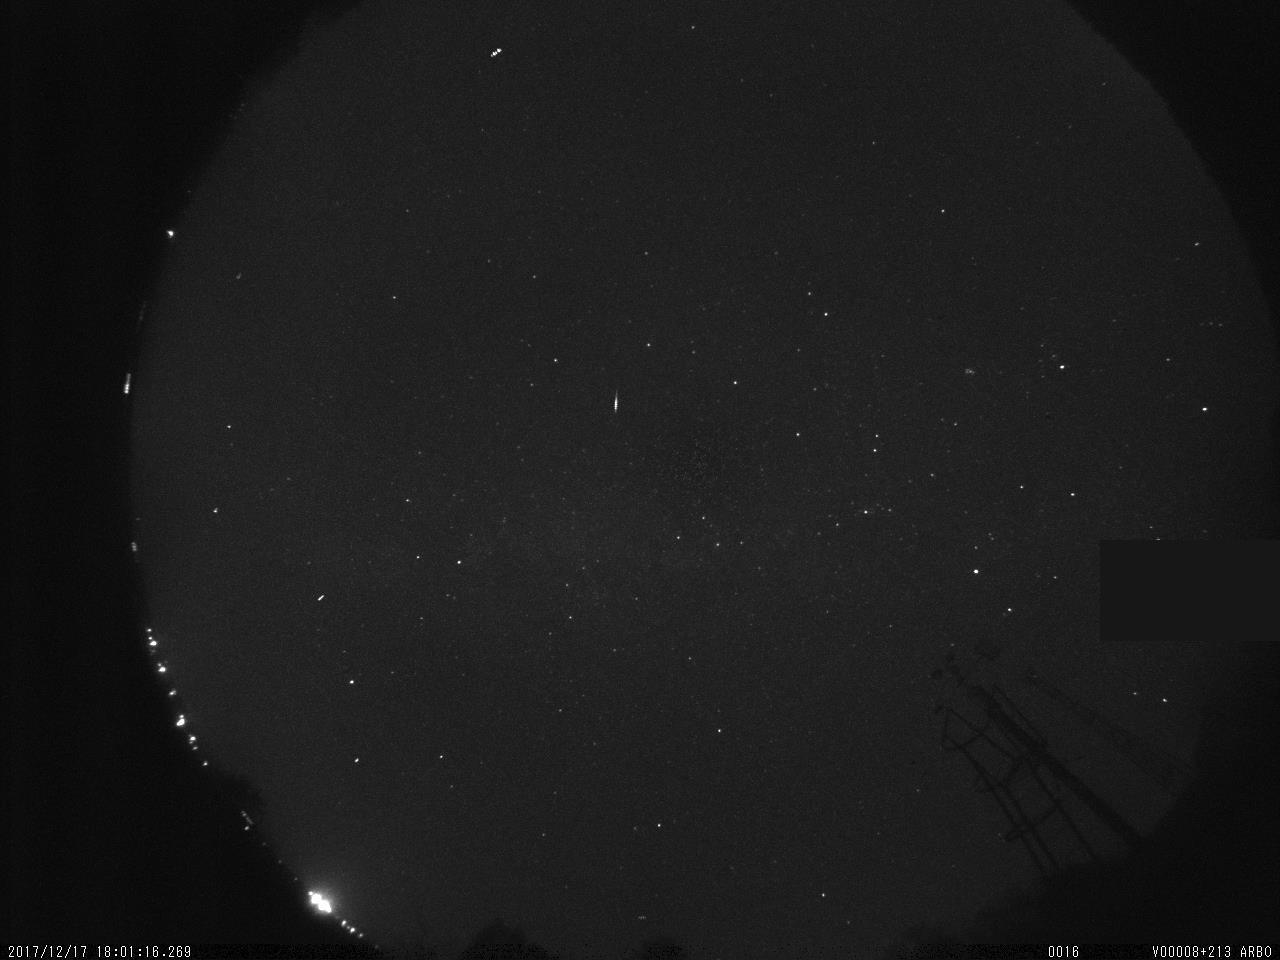meteor: (596, 377, 634, 429)
